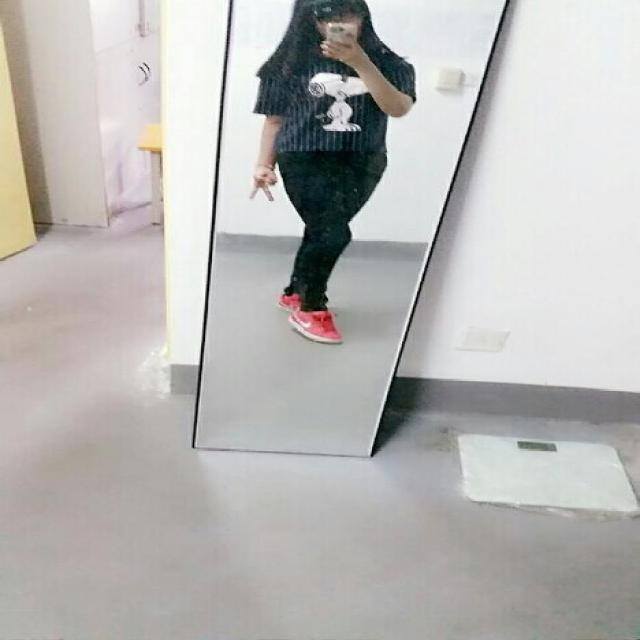short-sleeve-top: (233, 46, 430, 170)
